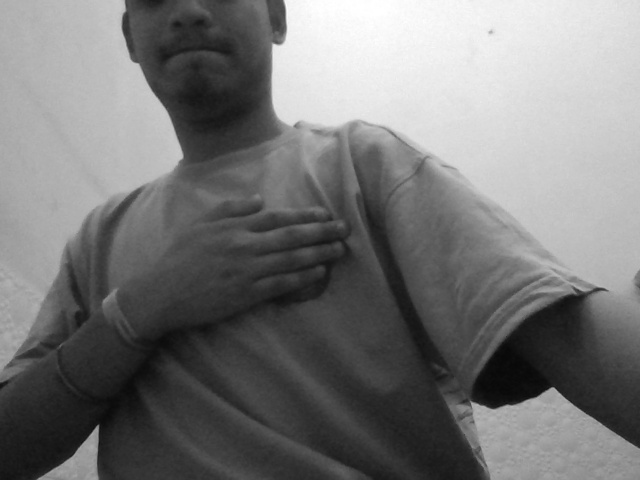Sorry: (132, 189, 358, 339)
